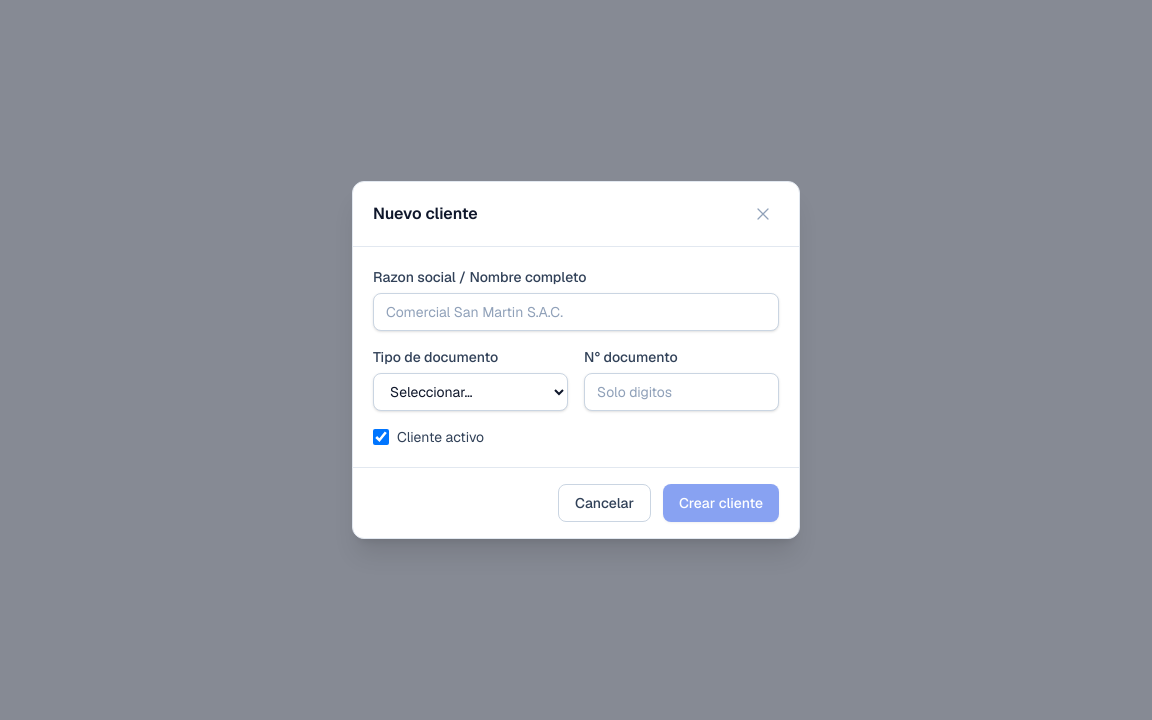
Test: ClientFormModal › shows error message when API fails
Step 1. Type "Test SA" into the field labelled "Razon social / Nombre completo" → (576, 312), box x1=373 y1=293 x2=779 y2=331
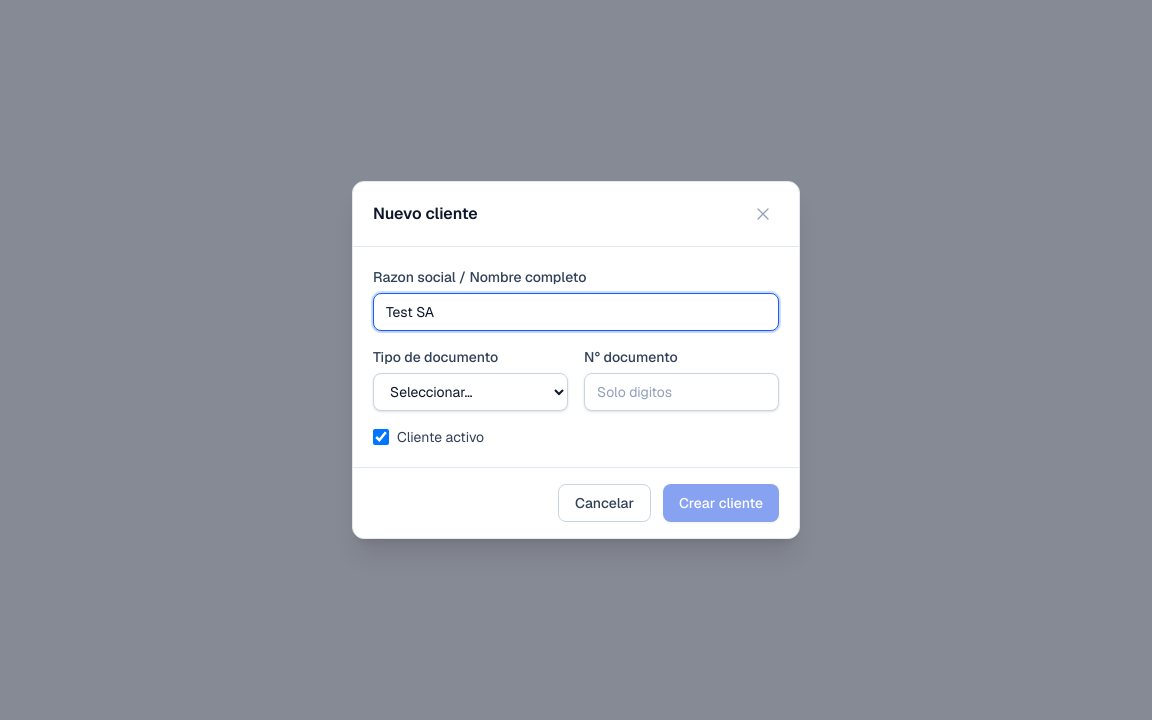
Step 2. Select "DNI" in the dropdown labelled "Tipo de documento" → (470, 392), box x1=373 y1=373 x2=568 y2=411
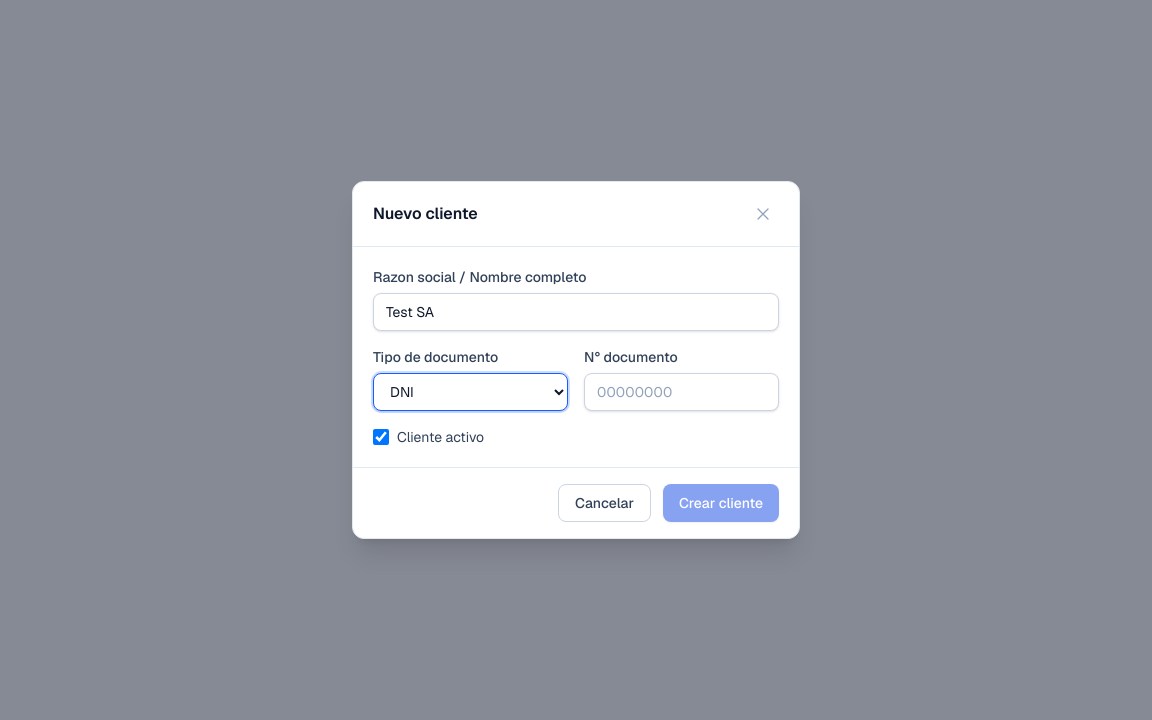
Step 3. Type "12345678" into the field labelled "N° documento" → (682, 392), box x1=584 y1=373 x2=779 y2=411
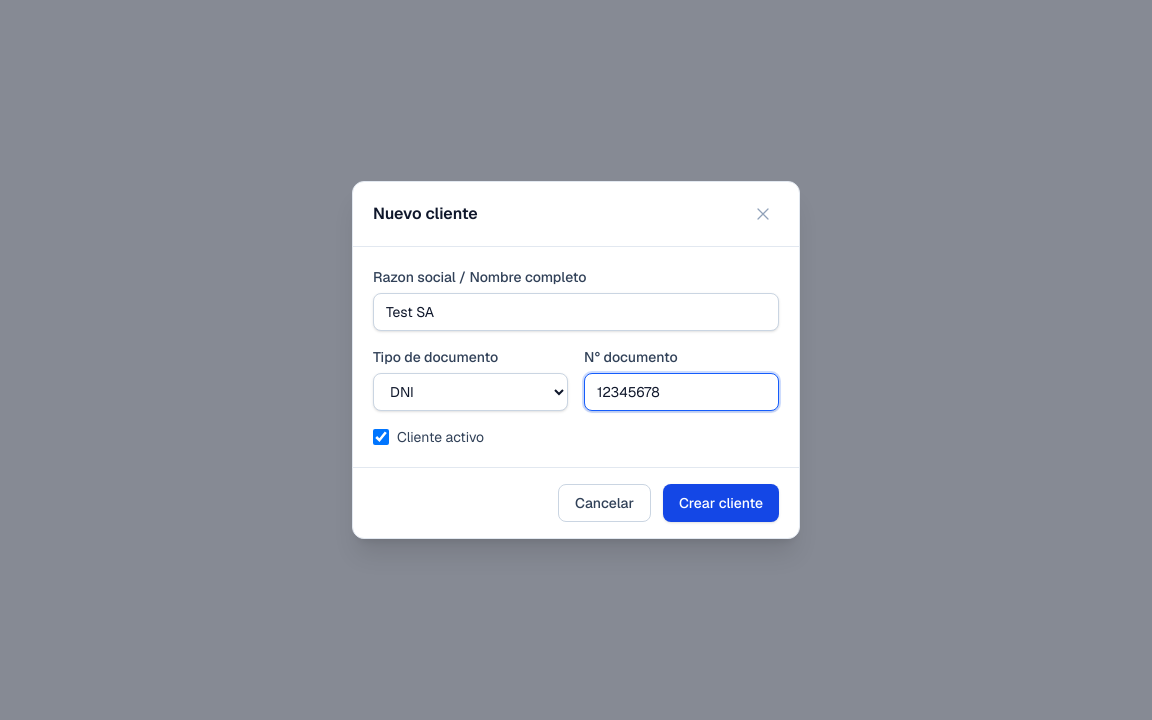
Step 4. Click the button "Crear cliente" → (721, 503), box x1=663 y1=484 x2=779 y2=522
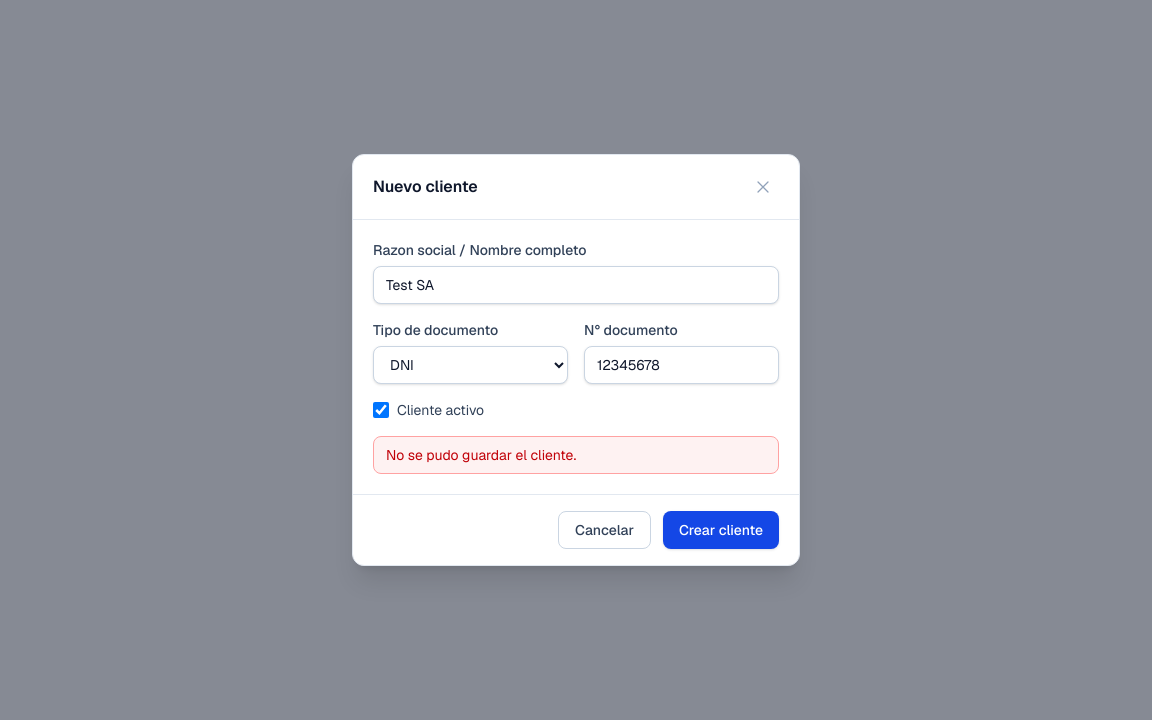
Expected: the text "No se pudo guardar el cliente." is shown, x1=373 y1=436 x2=779 y2=474
